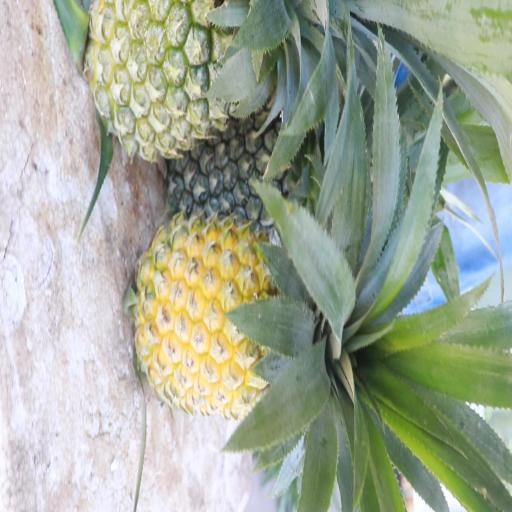------------------------------: (93, 0, 299, 155)
Pineapple - v8 v1: (137, 210, 345, 412)
